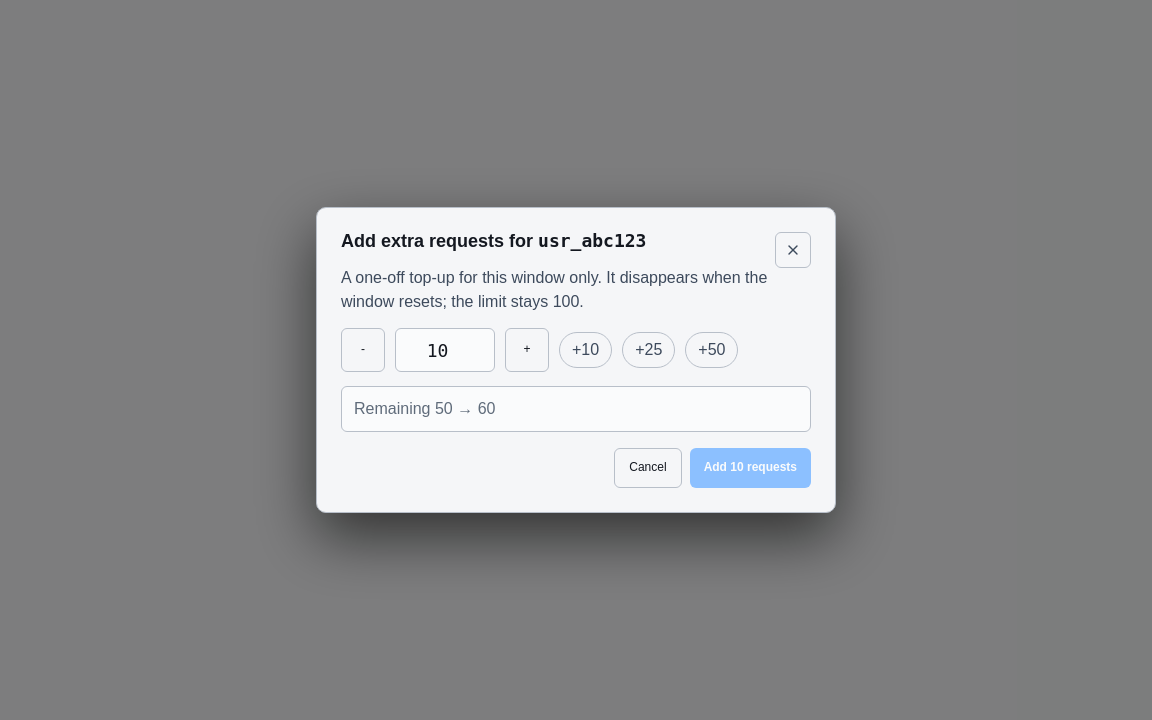
Scenario: AddExtraRequestsModal › increments value by 5 when plus clicked
The image size is (1152, 720).
What coordinates should you click on to do the following:
click the button named "Increase by 5"
I would click on:
 (527, 350)
Its box is [505,328,549,372].
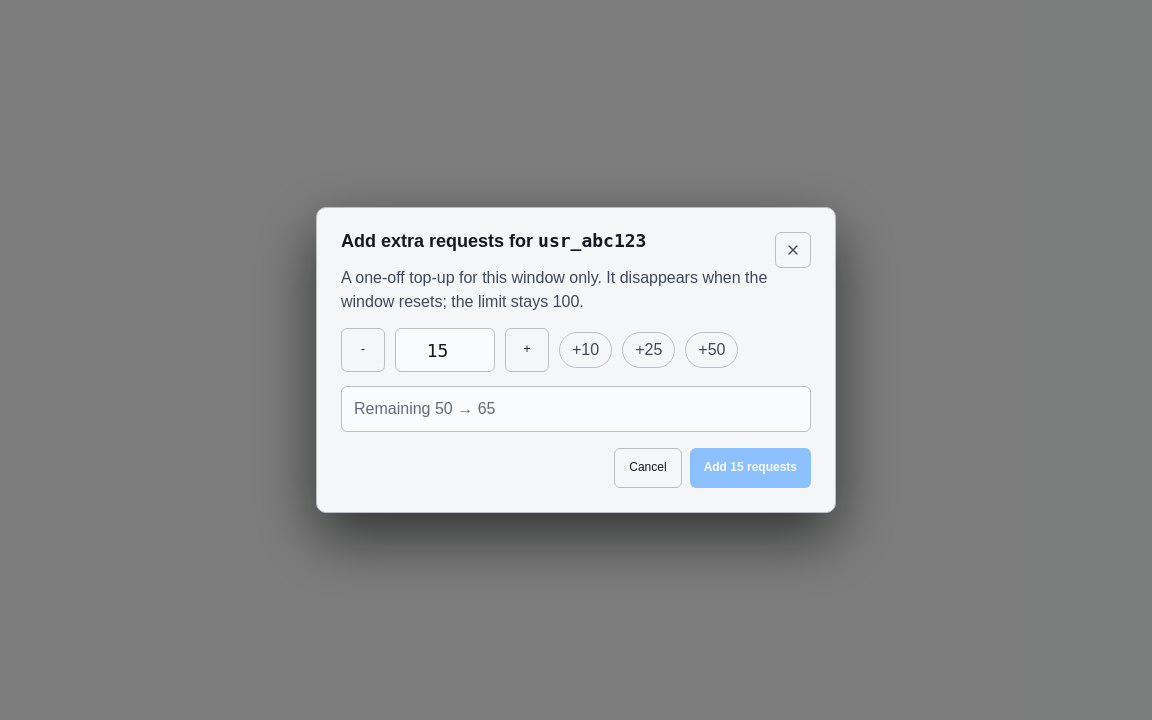
Result: the number field named "Extra requests" holds "15" at [395,328,495,372]
